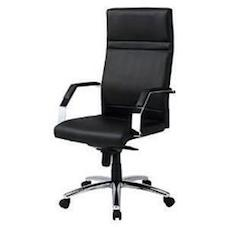chair: (49, 4, 181, 222)
